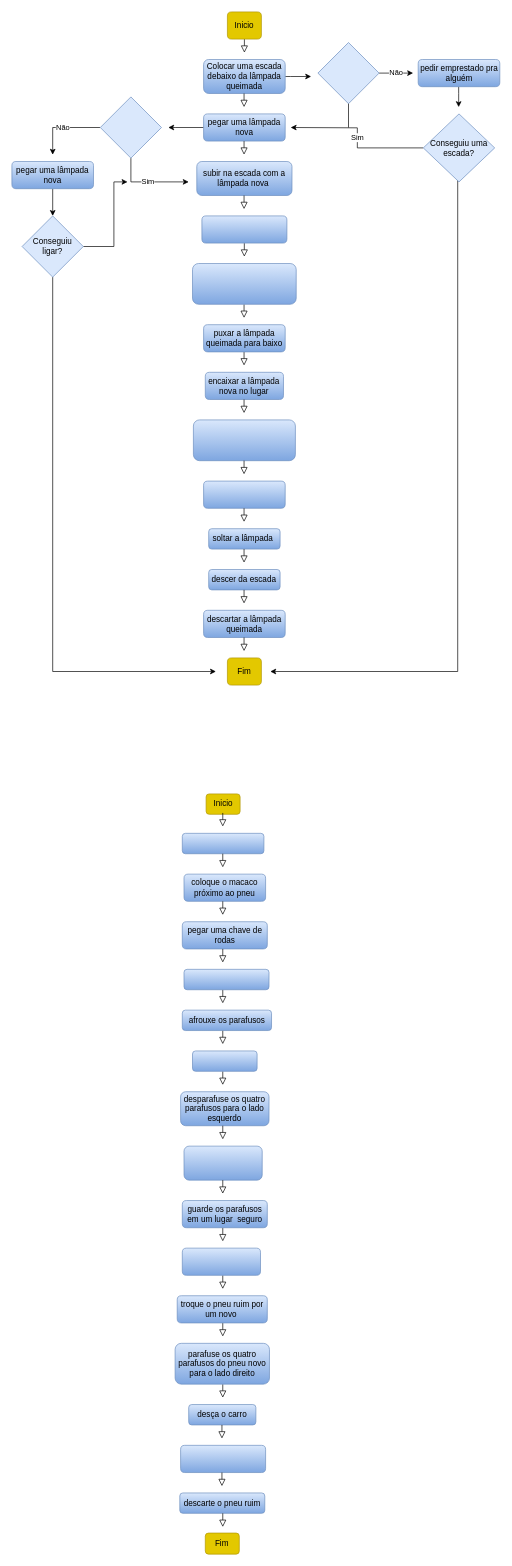
Image size: 512x1566. Some labels were removed from this diagram. Here are the shapes that lost their labels. From the top down, the box of each, then its label:
(317, 42, 379, 104): Tem uma escada?
(100, 96, 162, 158): Tem uma lâmpada?
(201, 215, 287, 243): segurar a lâmpada queimada
(192, 263, 296, 304): desrosquear a lampada queimada para o lado esquerdo até ela se soltar
(193, 419, 295, 461): rosquear a lâmpada nova para o lado direito até que ela fique firme
(203, 480, 285, 508): verificar se a lâmpada está bem presa
(182, 833, 264, 854): vá até o carro parado
(183, 969, 269, 990): vai até o pneu furado
(192, 1050, 257, 1071): levante o carro
(183, 1145, 262, 1180): tire os quatro parafusos da roda do carro
(182, 1247, 261, 1275): tire o pneu ruim do carro
(180, 1445, 266, 1473): tire o macaco debaixo do carro
